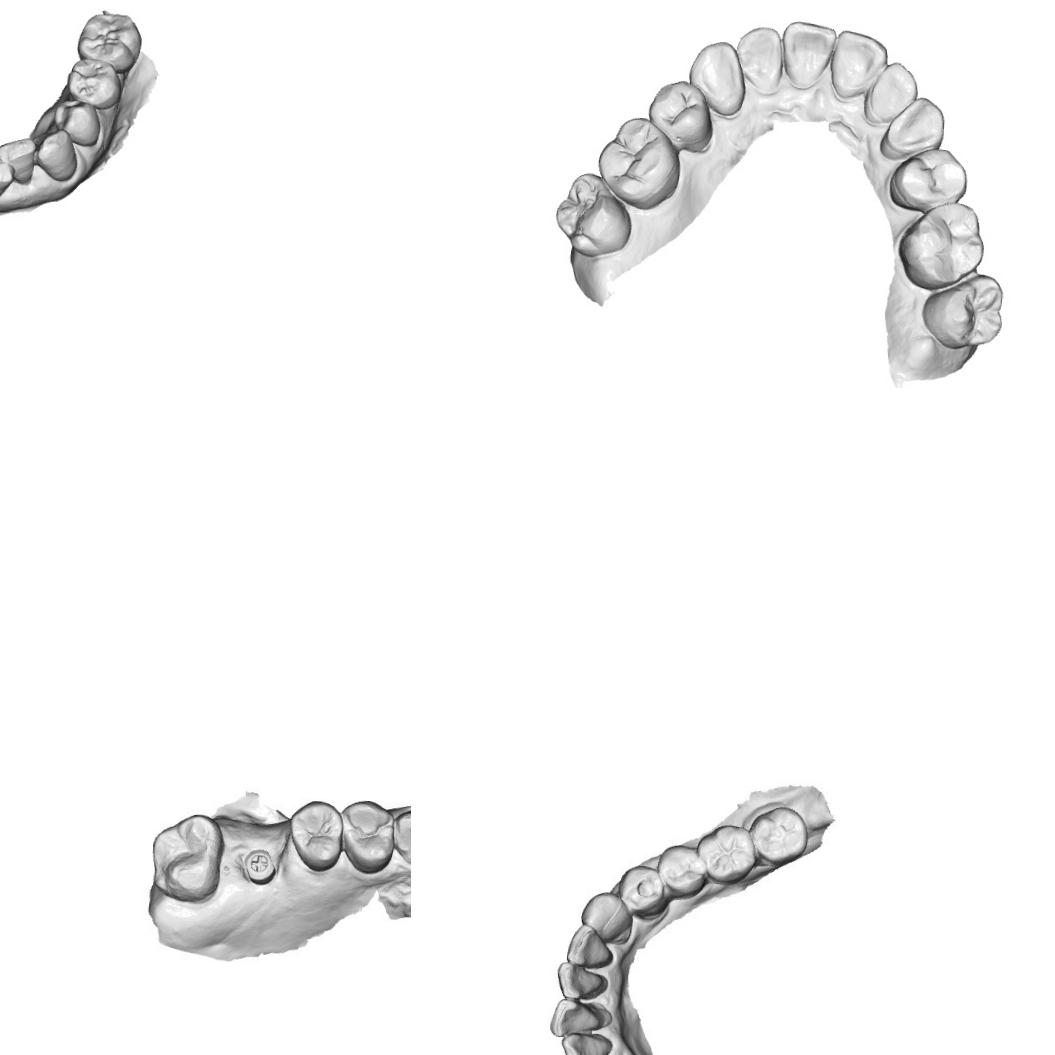canine: (684, 38, 750, 118), (880, 93, 946, 159), (578, 888, 633, 941), (32, 126, 78, 182), (391, 800, 411, 868)
implant_plus: (239, 846, 280, 884)
incisor: (830, 26, 890, 99), (778, 17, 834, 94), (732, 21, 785, 95), (866, 59, 920, 124), (547, 996, 607, 1042), (564, 922, 614, 968), (553, 958, 602, 1002), (0, 134, 37, 186), (558, 1031, 610, 1055), (0, 154, 15, 201)
molar: (894, 196, 988, 294), (593, 113, 684, 212), (146, 809, 226, 904), (918, 268, 1006, 353), (552, 168, 633, 256), (74, 10, 143, 75), (694, 821, 759, 883), (748, 804, 810, 866)
premolar: (887, 144, 968, 215), (646, 76, 716, 152), (336, 796, 398, 876), (285, 797, 348, 875), (655, 841, 712, 899), (65, 56, 124, 111), (614, 862, 668, 920), (50, 98, 102, 148)
